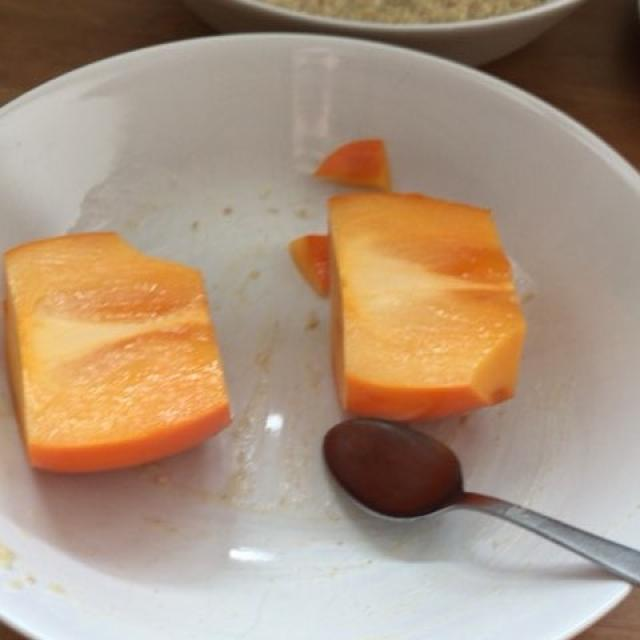kaki: (22, 176, 532, 480)
